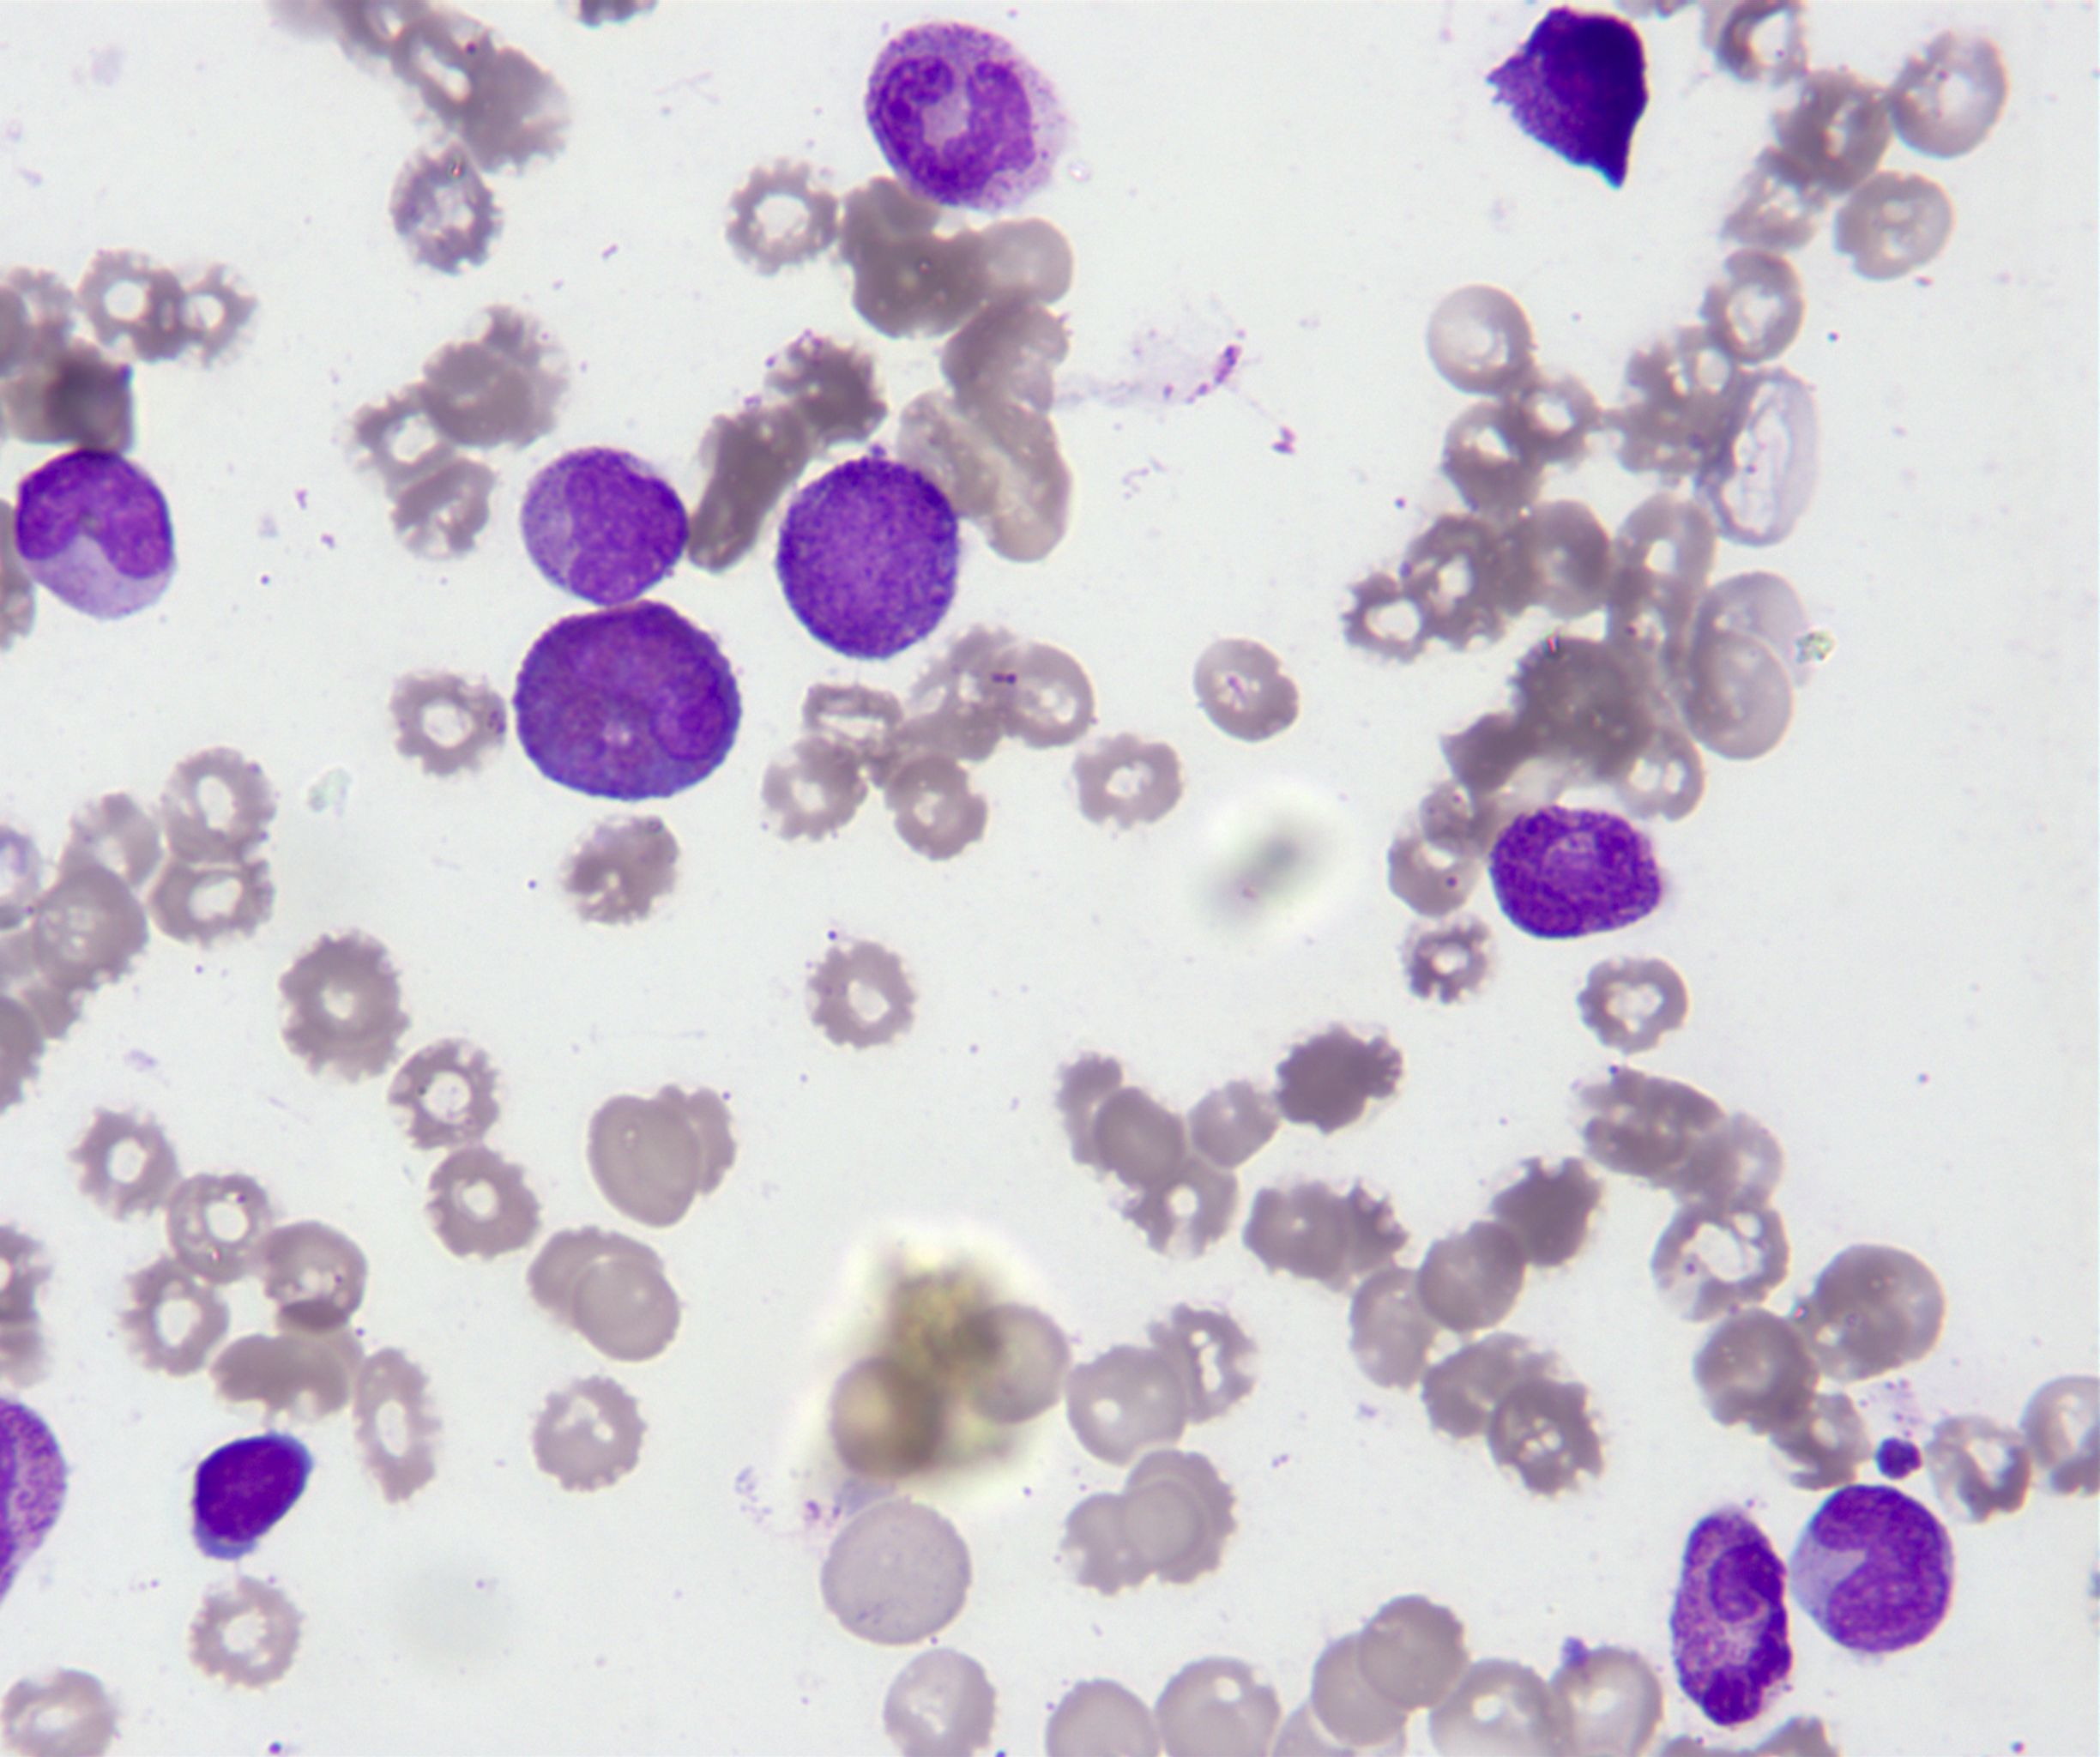3: (764, 445, 972, 667)
32: (181, 1431, 316, 1567)
4: (7, 443, 181, 626), (511, 440, 696, 611), (1790, 1481, 1957, 1661)
5: (856, 16, 1076, 218)
E1: (506, 591, 747, 810)
x: (1481, 0, 1653, 194), (1666, 1490, 1798, 1734), (1488, 797, 1671, 942)
